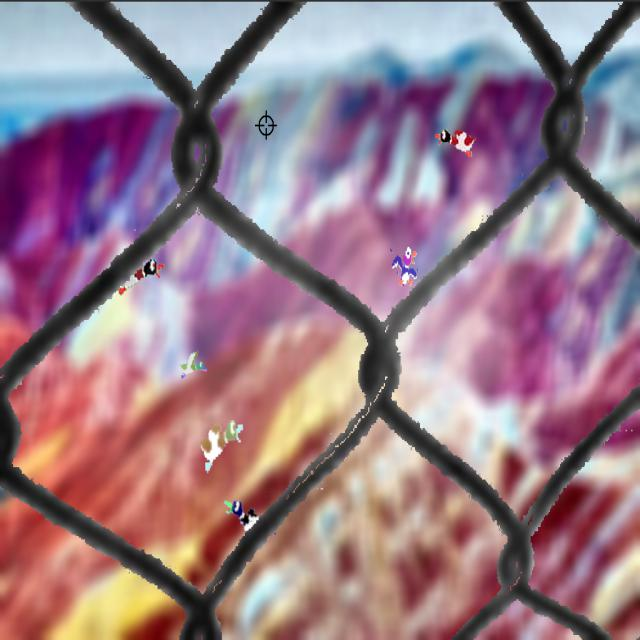duck: (196, 416, 247, 474), (225, 493, 268, 542), (118, 255, 168, 297), (179, 349, 208, 382)
falling_duck: (431, 114, 479, 163), (388, 242, 422, 294)
